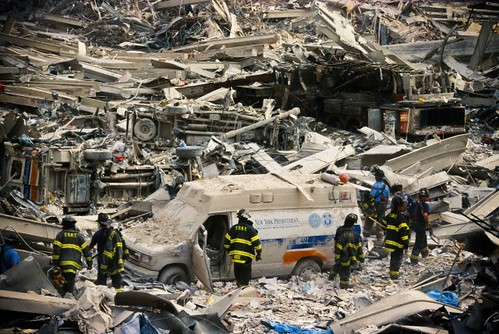debris: (1, 1, 499, 334)
firefighter: (88, 210, 127, 292), (47, 214, 86, 296), (327, 211, 366, 293), (376, 196, 415, 278), (224, 203, 259, 290)
van: (125, 178, 359, 280)
